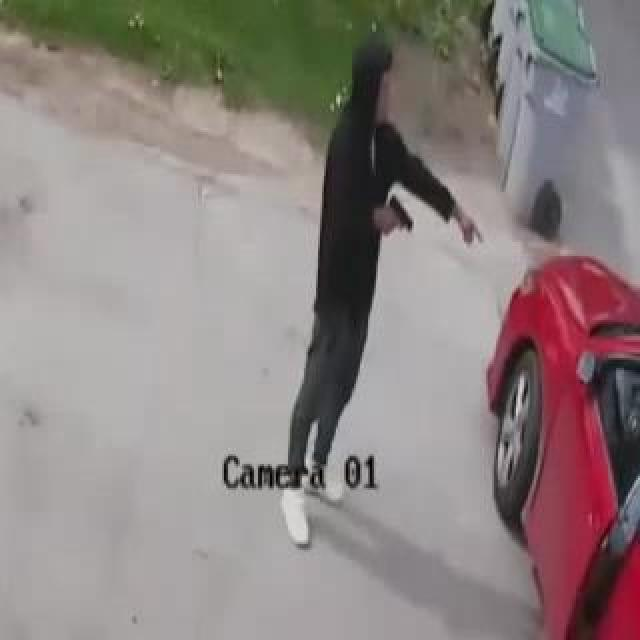Guns: (382, 188, 423, 239)
